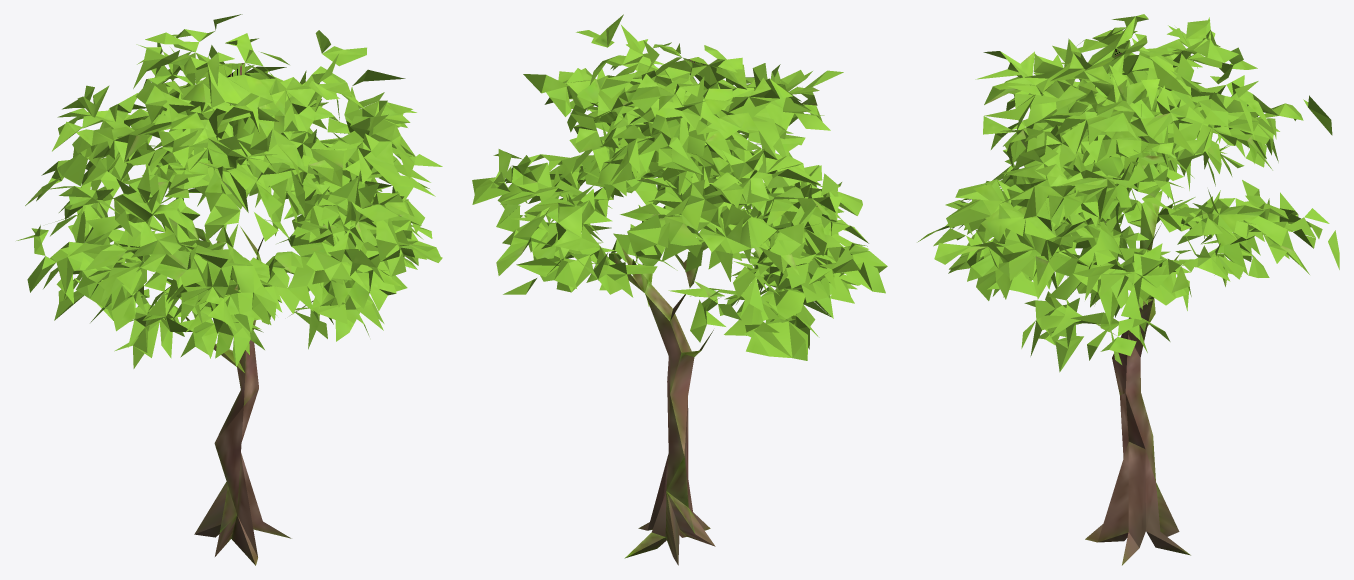
Rendered from forest_sapling.glb.
3 views of the same model, side by side, from view 1: azimuth 30°, elevation 25°; view 2: azimuth 150°, elevation 25°; view 3: azimuth 270°, elevation 25° (orthographic).
Visible parts, largest first — view 1: output_unwrapped; view 2: output_unwrapped; view 3: output_unwrapped.
Boxes of the visible parts, x1=… form: output_unwrapped: x1=16, y1=14, x2=442, y2=565; output_unwrapped: x1=472, y1=14, x2=887, y2=565; output_unwrapped: x1=917, y1=14, x2=1339, y2=565.
Bounding box in the file's own units: 1.55 × 1.89 × 1.4.
Materials: 1 (1 with a texture image).
